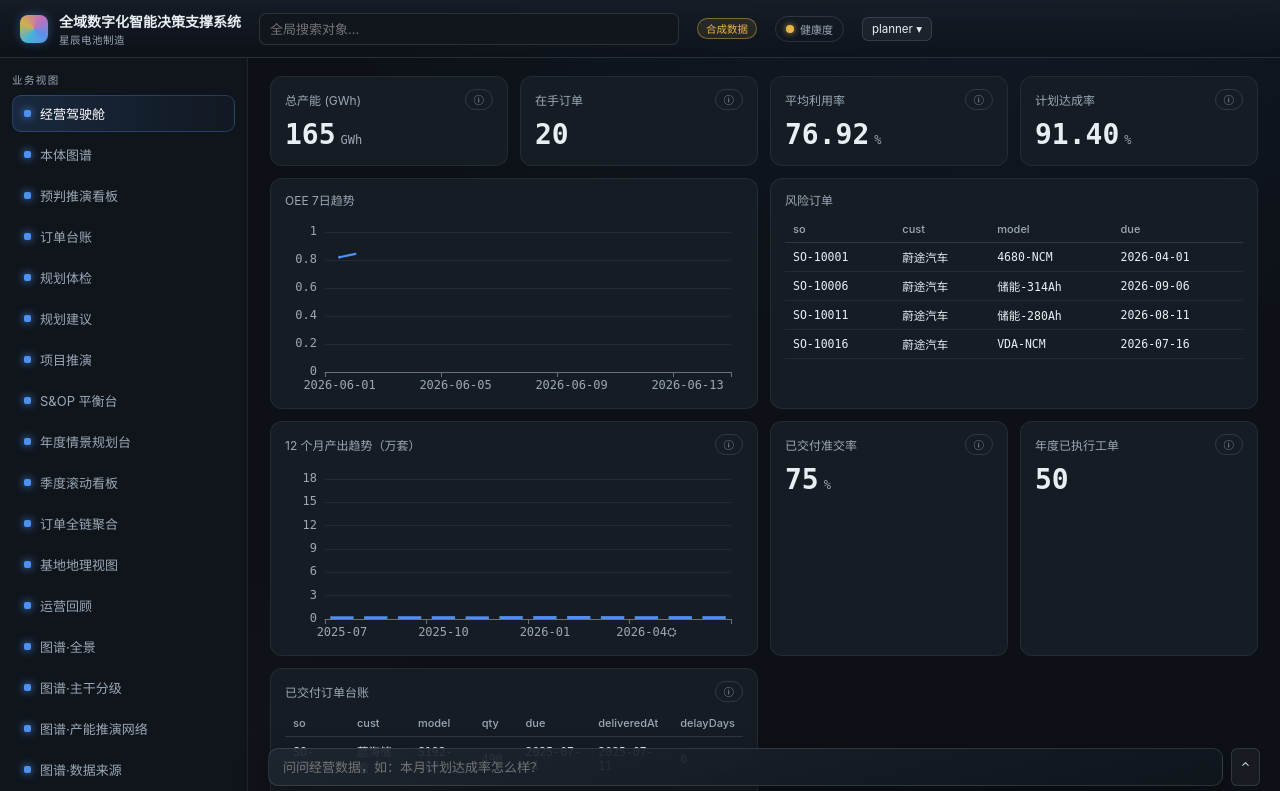
Test: F37 · 运营态出厂配置（lived-in） › Y8 对话坞：按场景预载历史问答（日期 + 信任级徽章 + 「以上为历史问答」分隔线）
Expected: the element with test id "query-dock-bar" is shown, [268, 748, 1260, 786]
Click the button named "展开对话": (1246, 767) [1231, 748, 1260, 786]
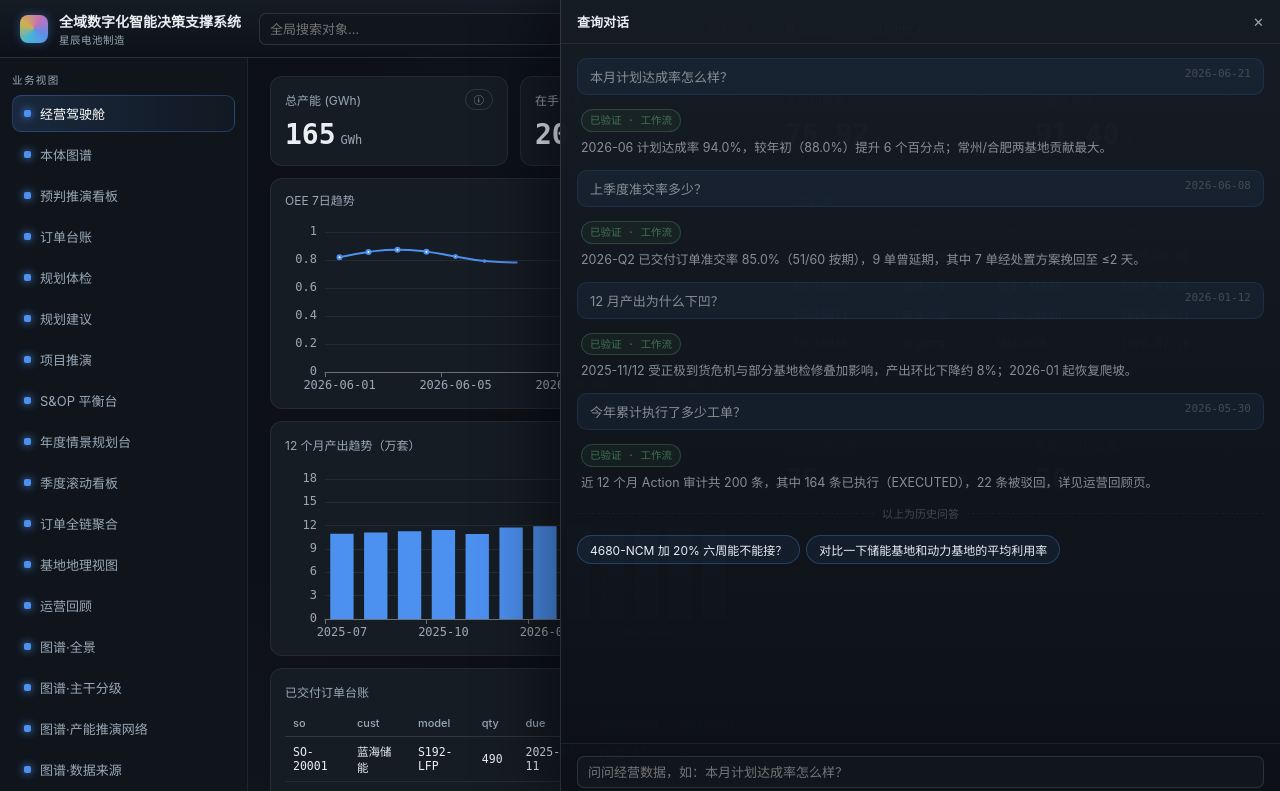
Result: the text "本月计划达成率怎么样？" is shown at [590, 69, 733, 85]
Result: the text "2026-06-21" is shown at [1185, 67, 1251, 80]
Result: the text with test id "dock-history-trust-0" reads "已验证 · 工作流" at [590, 114, 672, 126]
